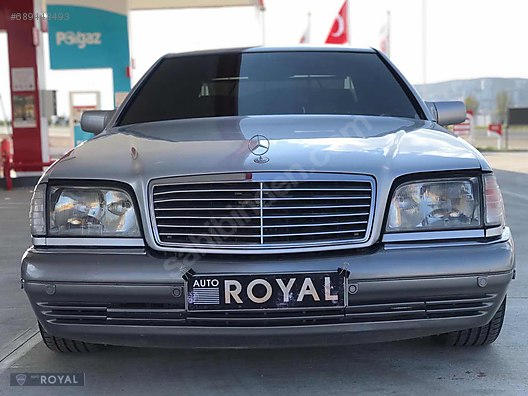mercedes: (18, 39, 522, 356)
